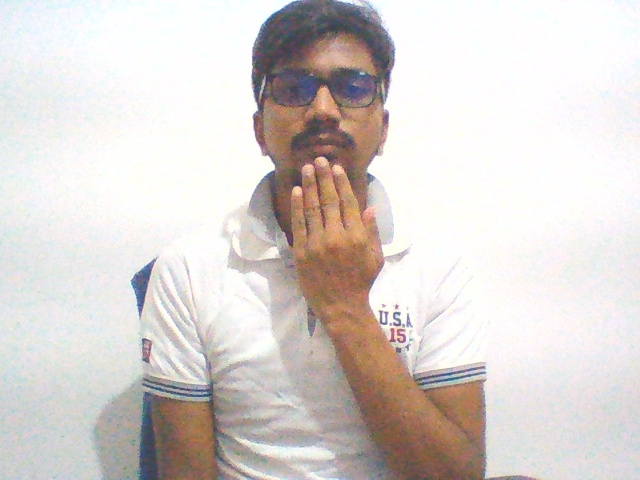mango: (281, 151, 393, 337)
